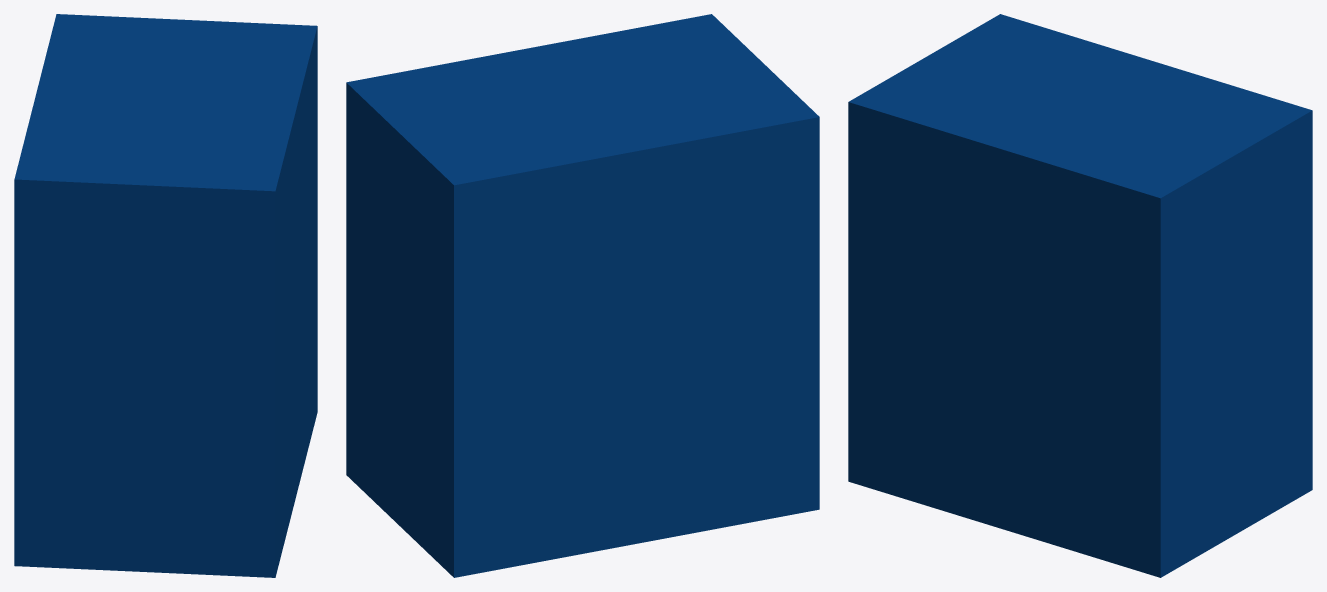
The model's file is OuthouseExport.fbx.
3 views of the same model, side by side, from view 1: azimuth 30°, elevation 25°; view 2: azimuth 150°, elevation 25°; view 3: azimuth 270°, elevation 25° (orthographic). The views are drawn at different scales.
Parts seen in each view (by area): view 1: Outhouse; view 2: Outhouse; view 3: Outhouse.
Part boxes in pixels (left/top/right/bottom): Outhouse: left=14, top=14, right=317, bottom=577; Outhouse: left=346, top=14, right=819, bottom=577; Outhouse: left=848, top=14, right=1312, bottom=577.
Bounding box in the file's own units: 4.13 × 3.96 × 4.39.
